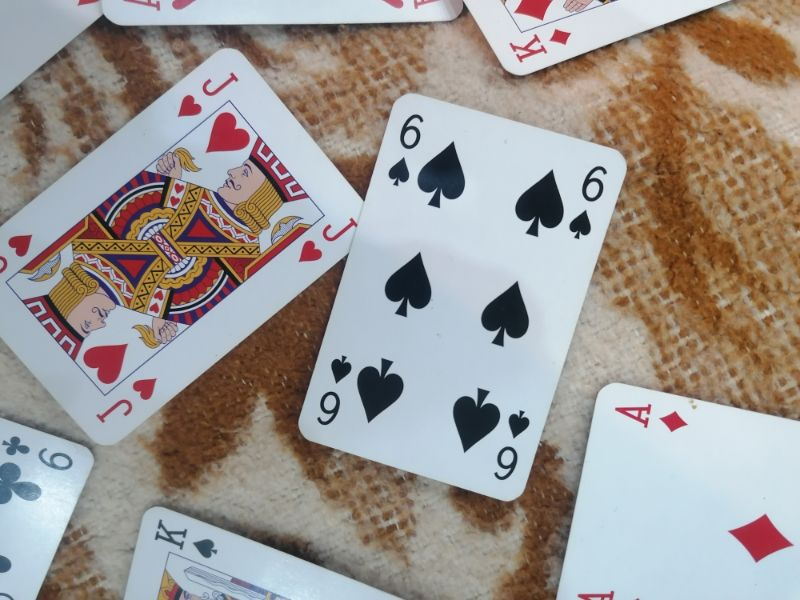6s: (385, 108, 432, 190), (566, 163, 613, 242), (491, 407, 534, 485), (314, 352, 355, 430)
9c: (1, 429, 75, 474)
Ad: (609, 397, 690, 434)
Jh: (293, 209, 365, 266), (171, 68, 244, 121), (93, 373, 163, 427)
Kd: (506, 24, 575, 68)
Ks: (146, 513, 221, 559)
